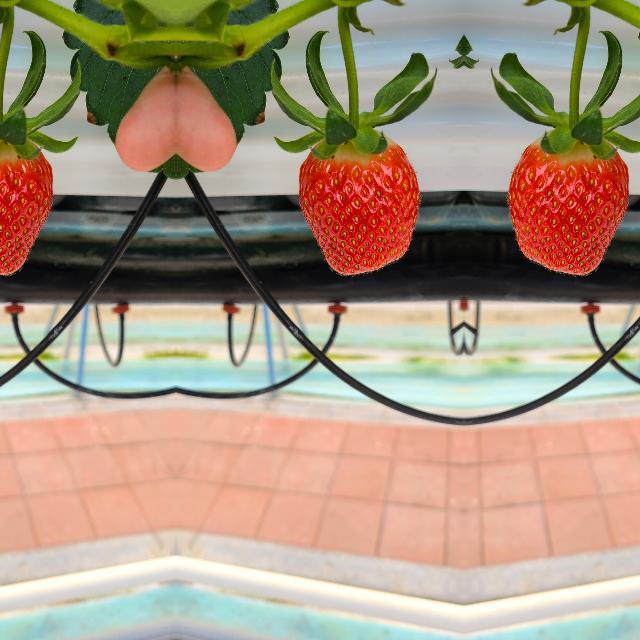Health_100: (295, 128, 421, 278), (505, 128, 631, 278), (0, 128, 55, 277)
